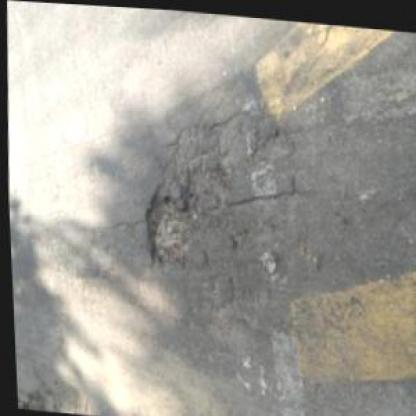pothole: (139, 182, 197, 273), (179, 160, 229, 219), (250, 122, 300, 165)
